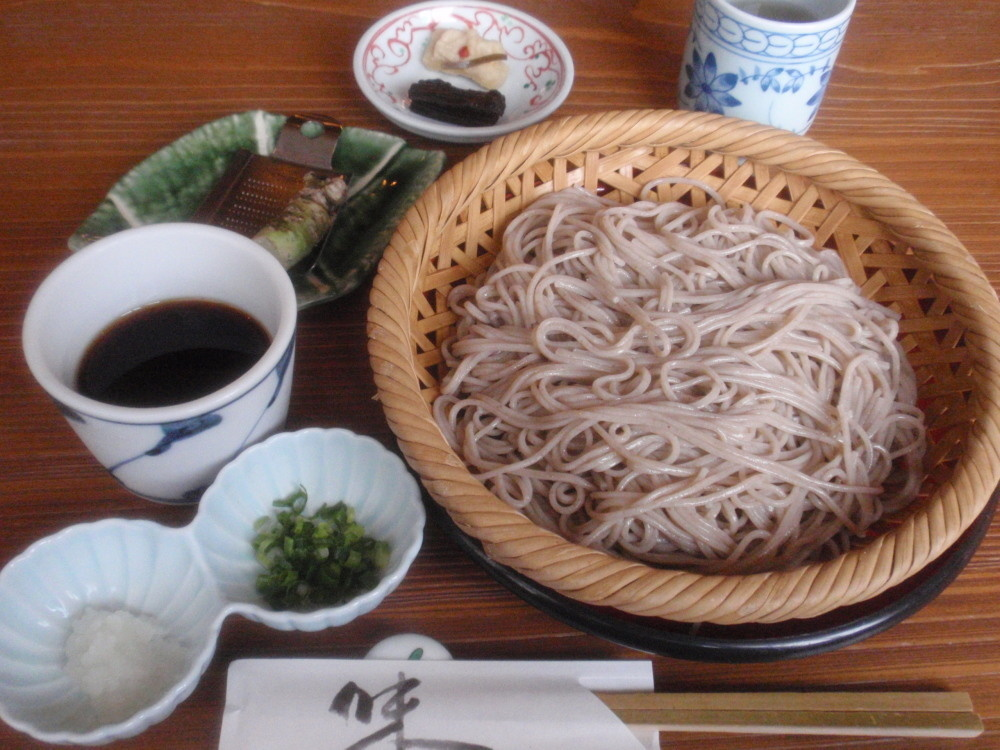Soba: (451, 187, 924, 556)
